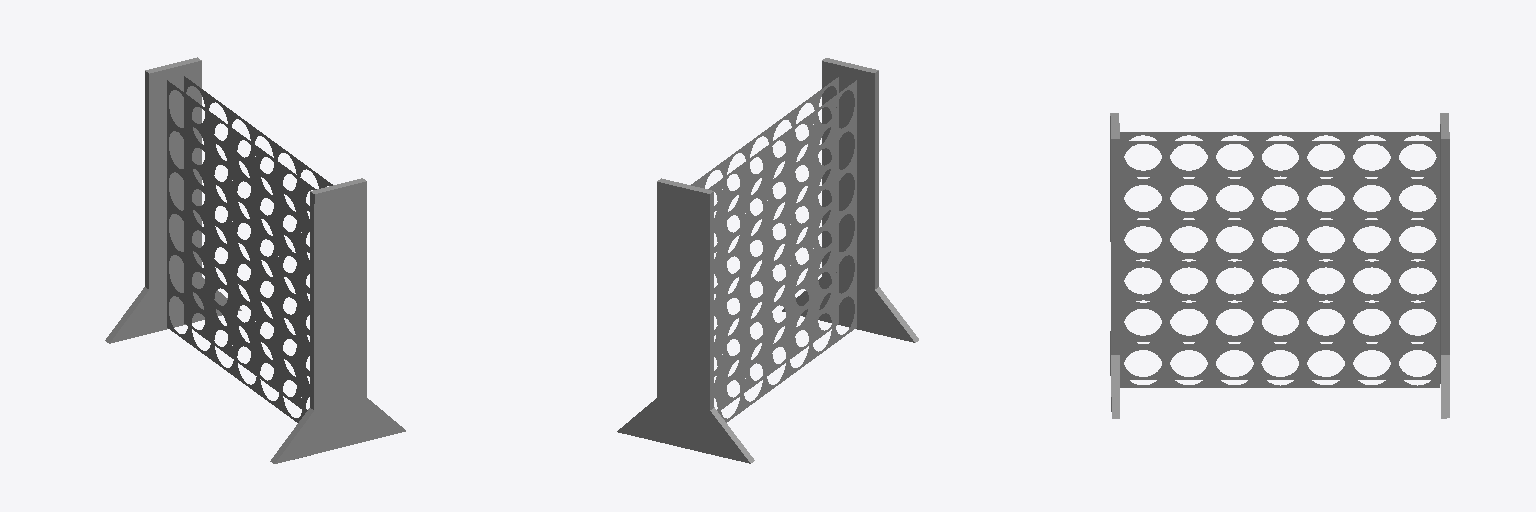
The model's file is spielfeld.obj.
3 views of the same model, side by side, from view 1: azimuth 30°, elevation 25°; view 2: azimuth 150°, elevation 25°; view 3: azimuth 270°, elevation 25° (orthographic).
Visible parts, largest first — view 1: Cube; view 2: Cube; view 3: Cube.
Boxes of the visible parts, x1=… form: Cube: x1=105, y1=57, x2=405, y2=463; Cube: x1=617, y1=58, x2=918, y2=463; Cube: x1=1110, y1=113, x2=1449, y2=418.
Bounding box in the file's own units: 5.39 × 10.01 × 11.87.